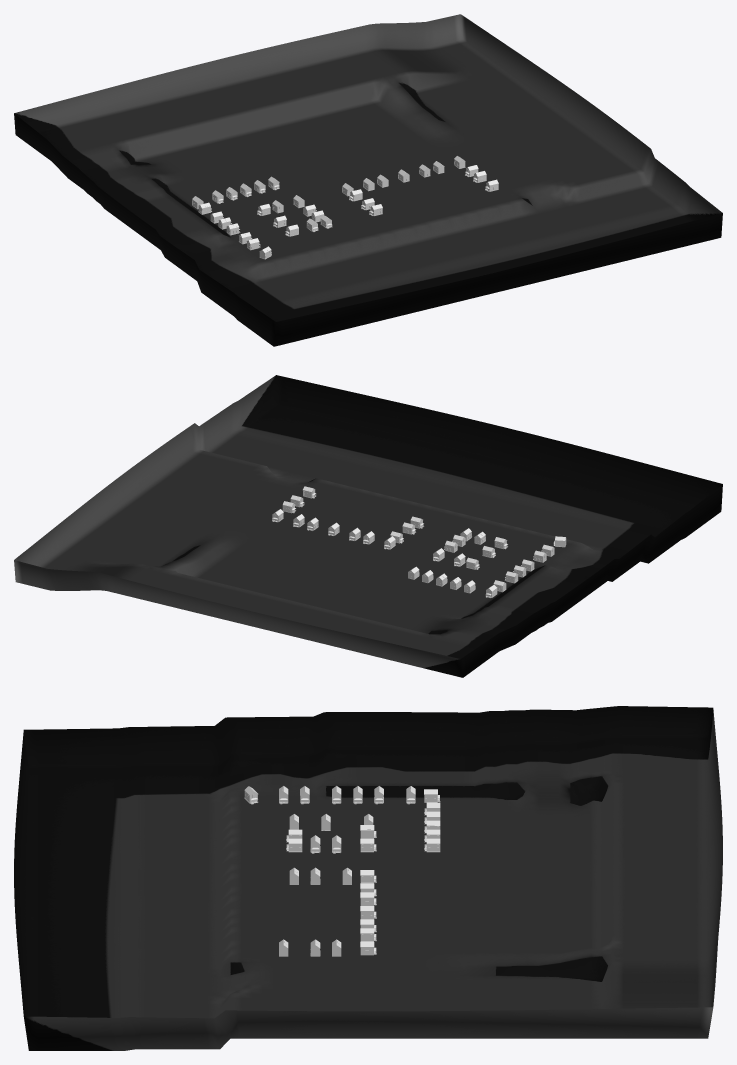
The model's file is city.dae.
3 views of the same model, one above another, from view 1: azimuth 30°, elevation 25°; view 2: azimuth 150°, elevation 25°; view 3: azimuth 270°, elevation 25° (orthographic). The views are drawn at different scales.
Visible parts, largest first — view 1: Ground; view 2: Ground; view 3: Ground.
Boxes of the visible parts, x1,y1,x2,y2 form: Ground: (14, 14, 722, 346); Ground: (14, 375, 722, 677); Ground: (14, 706, 722, 1050).
Size of the model in its own units: 789 by 801 by 70.96.
Materials: 2 (1 with a texture image).
